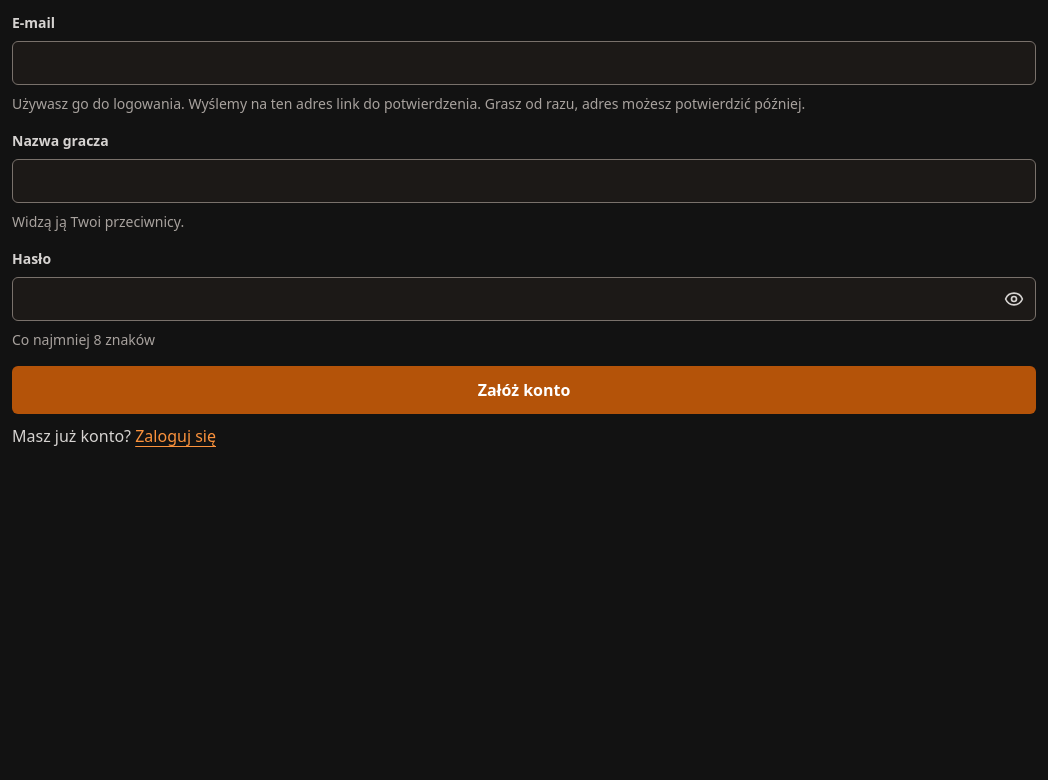
Test: RegisterForm › shows the rate limit with Retry-After 90
Type "ala@example.com" into the field labelled "E-mail" at point(524, 63), box x1=12 y1=41 x2=1036 y2=85
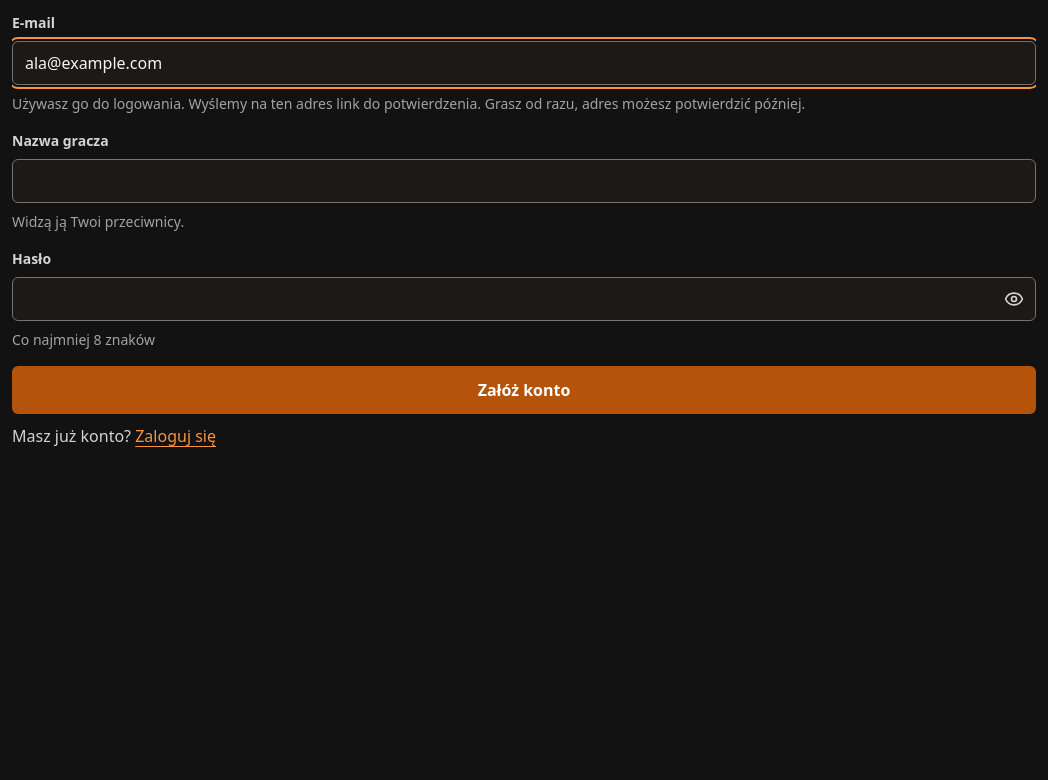
Type "Ala_7" into the field labelled "Nazwa gracza" at point(524, 181), box x1=12 y1=159 x2=1036 y2=203
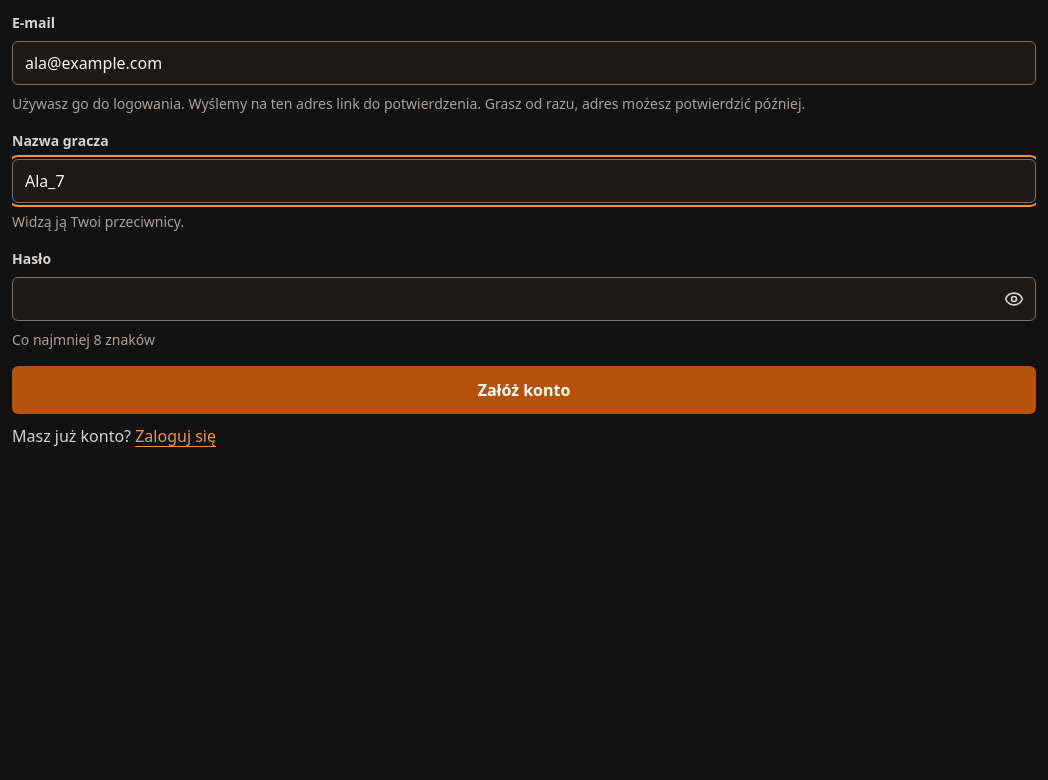
Type "secret123" into the password field labelled "Hasło" at point(524, 299), box x1=12 y1=277 x2=1036 y2=321
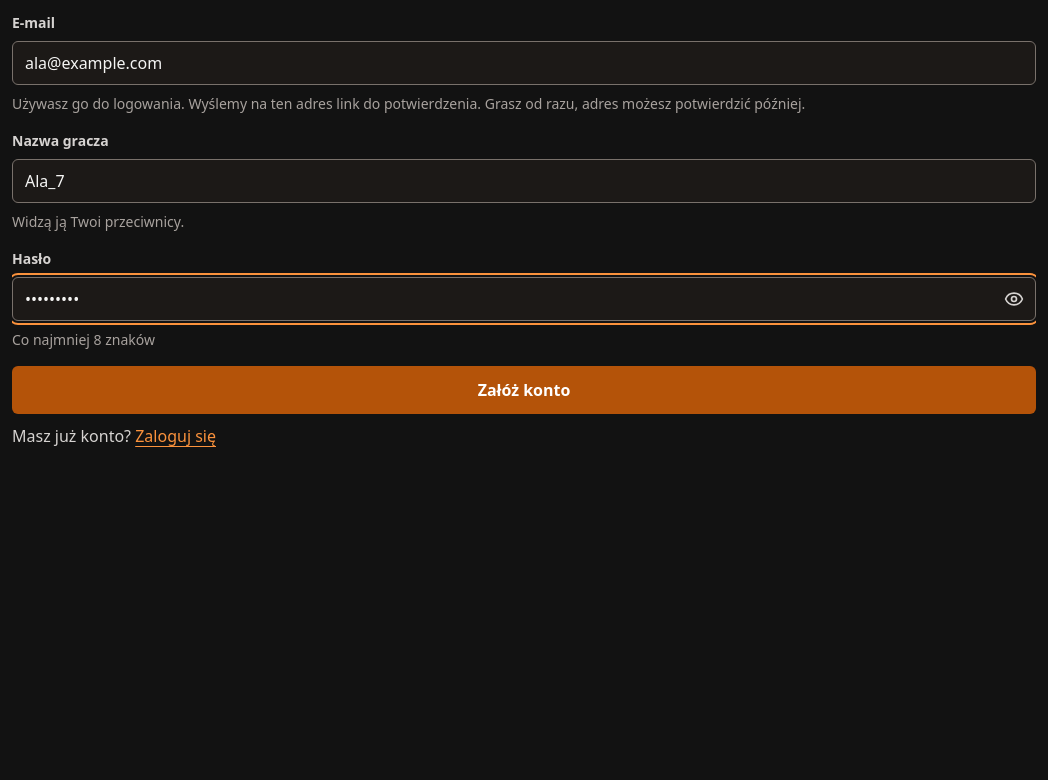
Click the button "Załóż konto" at point(524, 390), box x1=12 y1=366 x2=1036 y2=414
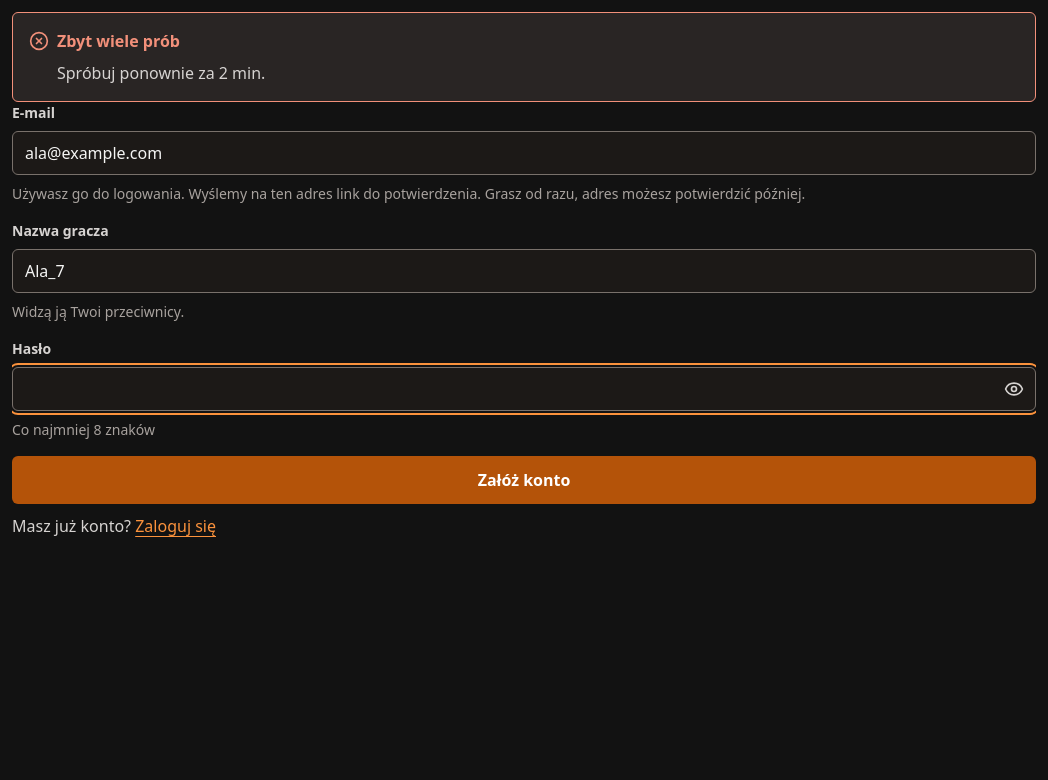
Expected: the element with test id "register-error" shows "Zbyt wiele prób", x1=57 y1=30 x2=180 y2=52
Expected: the element with test id "register-error" shows "Spróbuj ponownie za 2 min.", x1=57 y1=62 x2=265 y2=84
